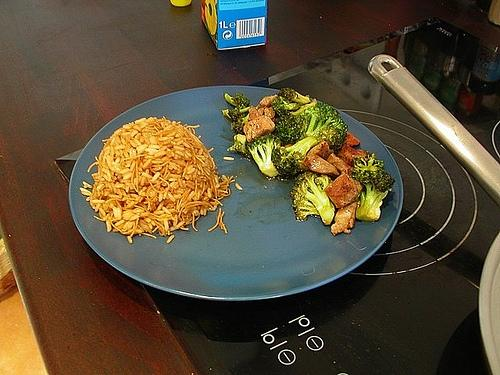broccoli: (352, 168, 396, 222), (271, 136, 319, 179), (274, 99, 318, 144), (246, 133, 282, 177), (304, 102, 342, 137), (353, 150, 384, 175), (227, 132, 253, 159), (278, 88, 311, 104), (270, 97, 304, 111), (231, 113, 250, 134), (227, 106, 250, 122), (225, 94, 250, 106)
